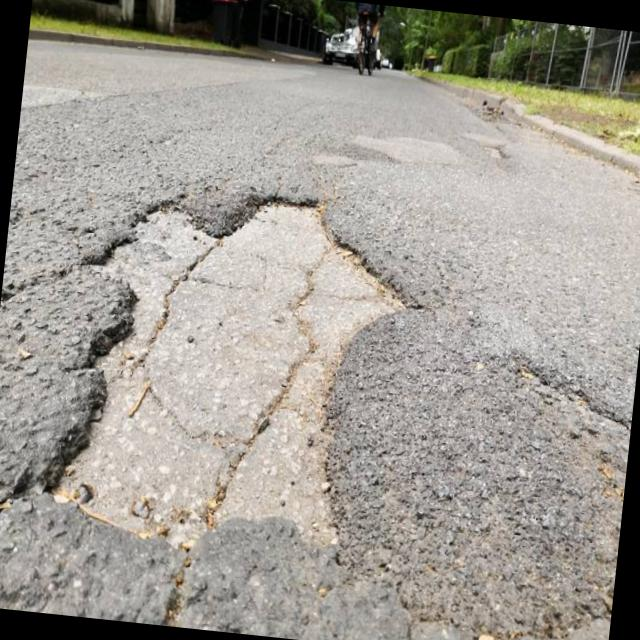Potholes: (50, 136, 438, 594)
